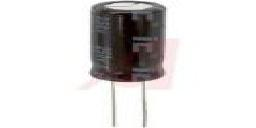Electrolytic-Capacitor: (86, 1, 172, 128)
